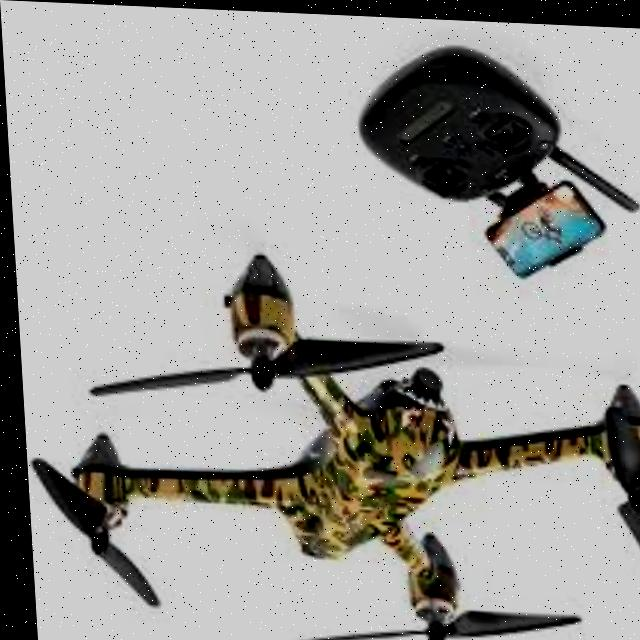drone: (11, 237, 640, 640)
